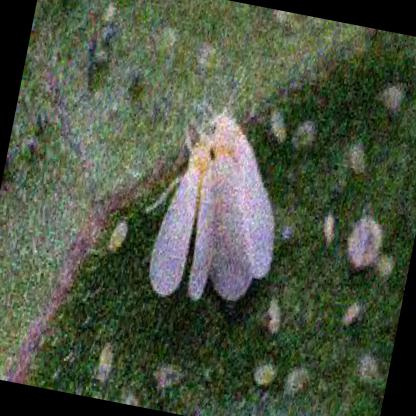whitefly: (209, 111, 271, 302), (152, 138, 212, 301)
